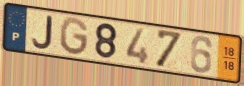4: (125, 27, 151, 65)
6: (189, 35, 214, 75)
7: (155, 28, 184, 70)
8: (93, 22, 119, 61)
G: (59, 16, 91, 58)
J: (31, 15, 54, 50)
